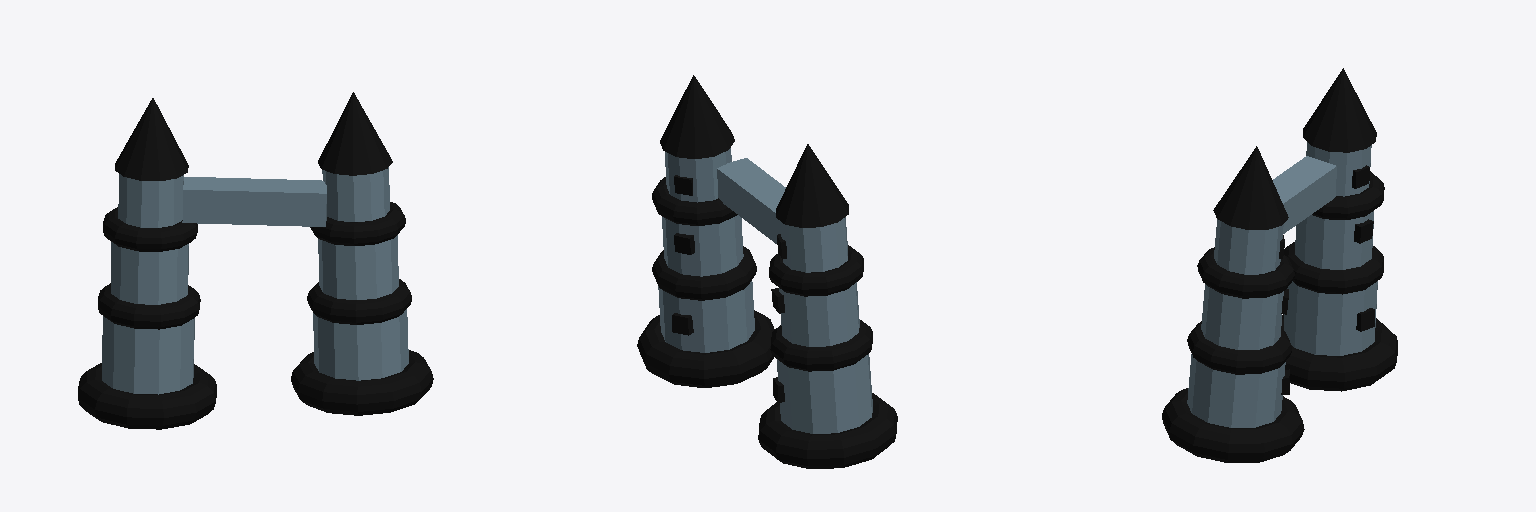
3 renders of one model, left to right at view 1: azimuth 30°, elevation 25°; view 2: azimuth 150°, elevation 25°; view 3: azimuth 270°, elevation 25°, orthographic.
Visible parts, largest first — view 1: group[number redacted], group[number redacted], group[number redacted], group[number redacted], group[number redacted], group[number redacted], group[number redacted], group[number redacted], group[number redacted], group[number redacted], group[number redacted], group[number redacted] (+6 smaller); view 2: group[number redacted], group[number redacted], group[number redacted], group[number redacted], group[number redacted], group[number redacted], group[number redacted], group[number redacted], group[number redacted], group[number redacted], group[number redacted], group[number redacted] (+5 smaller); view 3: group[number redacted], group[number redacted], group[number redacted], group[number redacted], group[number redacted], group[number redacted], group[number redacted], group[number redacted], group[number redacted], group[number redacted], group[number redacted], group[number redacted] (+5 smaller).
Boxes of the visible parts, box(x1,y1,x2,y2) form: group[number redacted]: box(102, 316, 194, 394); group[number redacted]: box(78, 363, 216, 429); group[number redacted]: box(291, 350, 433, 415); group[number redacted]: box(313, 309, 408, 380); group[number redacted]: box(318, 235, 398, 299); group[number redacted]: box(111, 242, 188, 304); group[number redacted]: box(115, 98, 188, 180); group[number redacted]: box(318, 92, 392, 175); group[number redacted]: box(118, 174, 183, 227); group[number redacted]: box(322, 167, 389, 221); group[number redacted]: box(98, 283, 200, 329); group[number redacted]: box(307, 279, 411, 324); group[number redacted]: box(777, 354, 872, 433); group[number redacted]: box(758, 393, 897, 468); group[number redacted]: box(637, 310, 774, 387); group[number redacted]: box(658, 281, 754, 352); group[number redacted]: box(779, 282, 859, 346); group[number redacted]: box(660, 75, 734, 158); group[number redacted]: box(776, 144, 848, 227); group[number redacted]: box(662, 215, 743, 276); group[number redacted]: box(780, 217, 847, 272); group[number redacted]: box(652, 246, 756, 300); group[number redacted]: box(770, 320, 872, 371); group[number redacted]: box(769, 245, 863, 296); group[number redacted]: box(1162, 388, 1304, 462); group[number redacted]: box(1284, 281, 1377, 355); group[number redacted]: box(1187, 354, 1285, 427); group[number redacted]: box(1281, 314, 1397, 391); group[number redacted]: box(1201, 284, 1283, 349); group[number redacted]: box(1303, 68, 1376, 152); group[number redacted]: box(1213, 146, 1288, 229); group[number redacted]: box(1295, 211, 1373, 269); group[number redacted]: box(1214, 219, 1283, 274); group[number redacted]: box(1187, 321, 1291, 374); group[number redacted]: box(1197, 247, 1294, 298); group[number redacted]: box(1284, 242, 1383, 294).
Size of the model in its own units: 1.77 by 1.79 by 1.25.